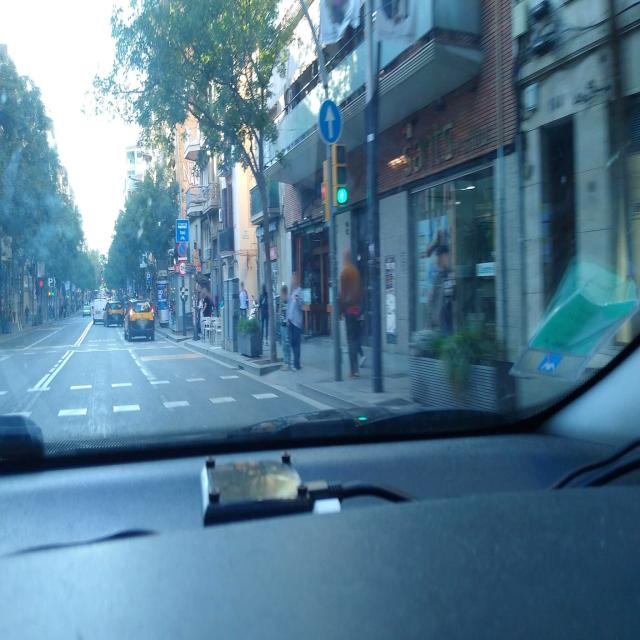car: (124, 299, 156, 343), (105, 299, 124, 328), (82, 302, 91, 316)
